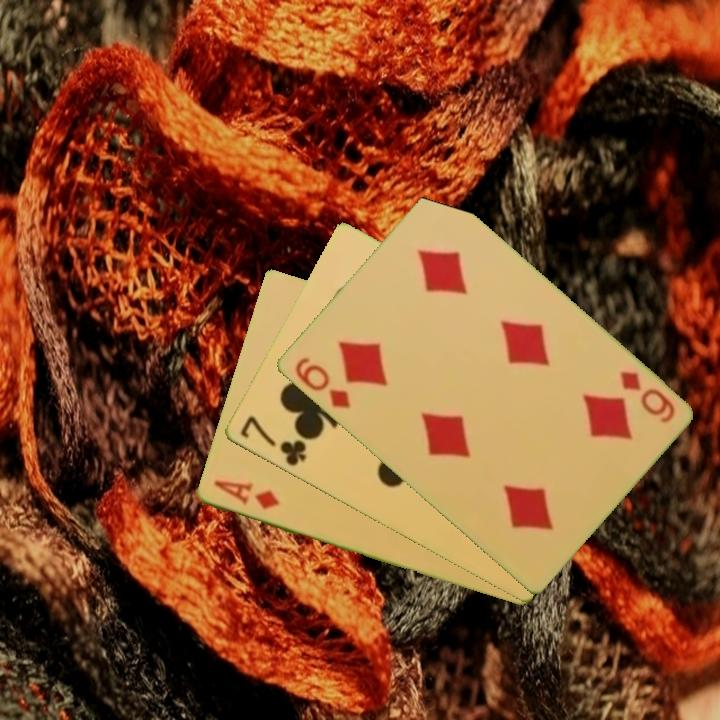6d: (290, 353, 353, 412), (615, 367, 678, 426)
7c: (236, 412, 309, 469)
Ad: (210, 477, 283, 513)
